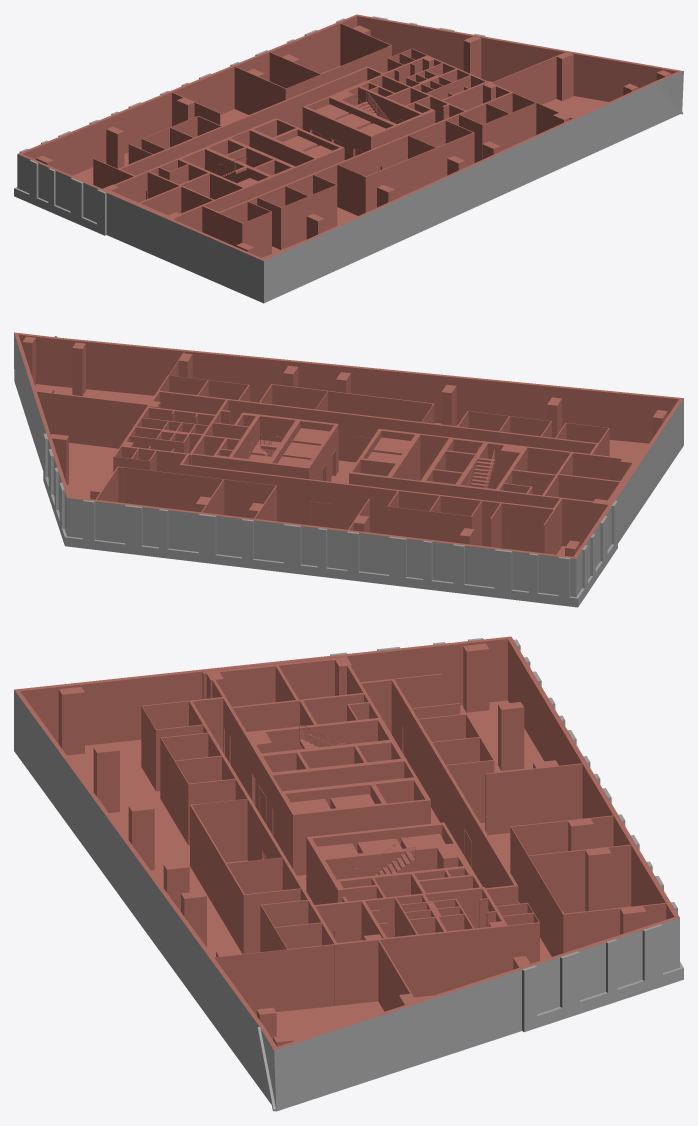
File: JLL_Ruya_Region3DModels_Riyadh_Derived_HeroBuildings_Building 305_Floors_KSA_04_04105_B29_Floor_T1_2.fbx
3 views of the same model, one above another, from view 1: azimuth 30°, elevation 25°; view 2: azimuth 150°, elevation 25°; view 3: azimuth 270°, elevation 25° (orthographic). The views are drawn at different scales.
Visible parts, largest first — view 1: KSA_04_04105_B29_Floor_T1_2; view 2: KSA_04_04105_B29_Floor_T1_2; view 3: KSA_04_04105_B29_Floor_T1_2.
Part boxes in pixels (x1,y1,x2,y2): KSA_04_04105_B29_Floor_T1_2: [14, 14, 683, 303]; KSA_04_04105_B29_Floor_T1_2: [14, 332, 683, 607]; KSA_04_04105_B29_Floor_T1_2: [14, 636, 683, 1111].
Size of what is drawn, in the model's own units: 5945 by 505 by 4048.
